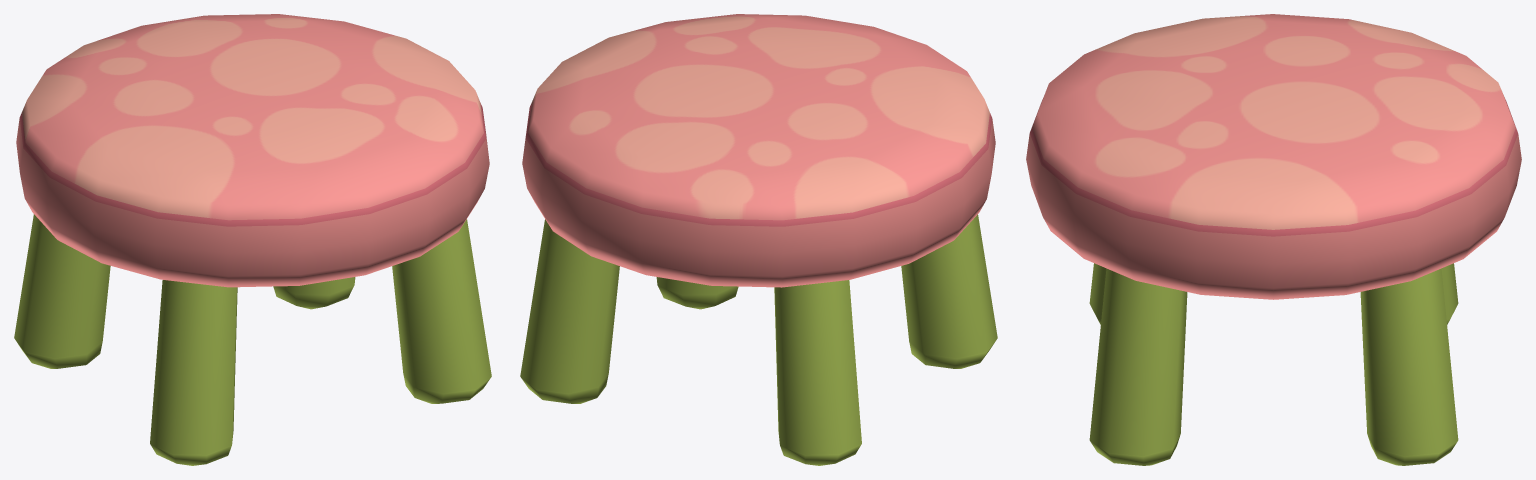
Rendered from Homestead_xkl_5.fbx.
3 views of the same model, side by side, from view 1: azimuth 30°, elevation 25°; view 2: azimuth 150°, elevation 25°; view 3: azimuth 270°, elevation 25° (orthographic). The views are drawn at different scales.
Visible parts, largest first — view 1: Homestead_xkl_5; view 2: Homestead_xkl_5; view 3: Homestead_xkl_5.
Part boxes in pixels (x1,y1,x2,y2): Homestead_xkl_5: (14, 14, 491, 465); Homestead_xkl_5: (520, 14, 997, 465); Homestead_xkl_5: (1026, 14, 1521, 465).
Bounding box in the file's own units: 73.82 × 49.41 × 73.82.
